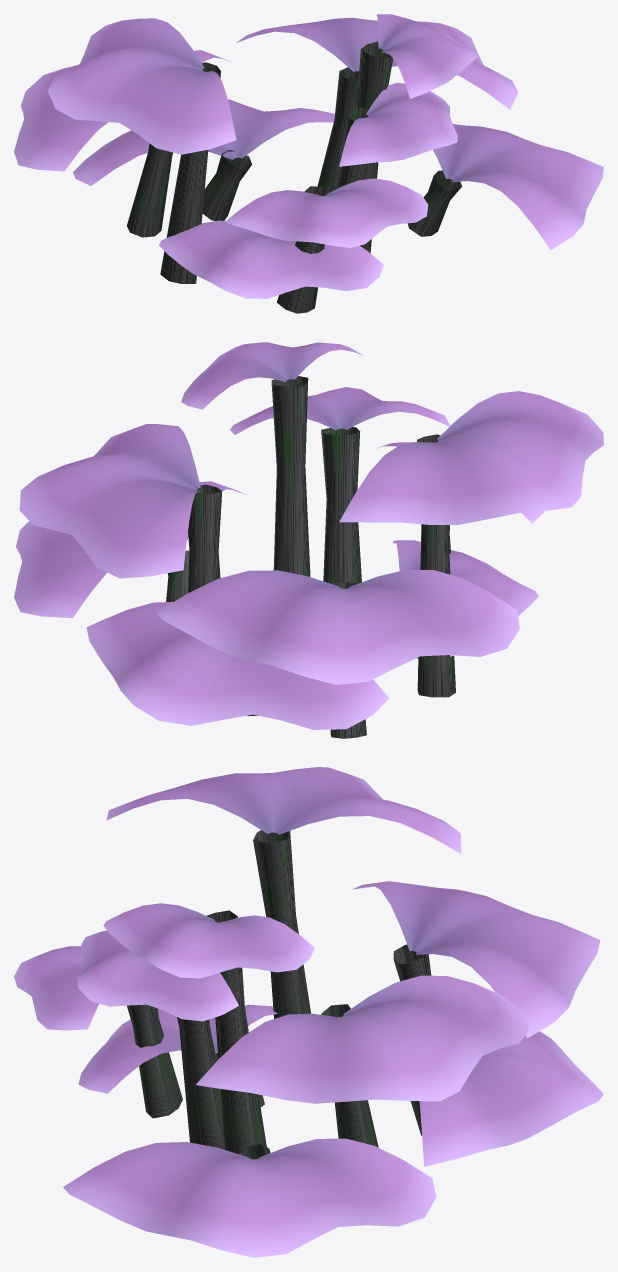
File: Lantern Shelves.glb
The picture shows the model from 3 angles, top to bottom: view 1: azimuth 30°, elevation 25°; view 2: azimuth 150°, elevation 25°; view 3: azimuth 270°, elevation 25°; orthographic projection. The views are drawn at different scales.
Parts seen in each view (by area): view 1: Lantern Shelves; view 2: Lantern Shelves; view 3: Lantern Shelves.
Boxes of the visible parts, bbox=[...] form: Lantern Shelves: bbox=[14, 14, 603, 313]; Lantern Shelves: bbox=[14, 342, 603, 738]; Lantern Shelves: bbox=[14, 767, 603, 1257].
Size of the model in its own units: 3.27 by 1.45 by 2.78.
Materials: 2 (1 with a texture image).
